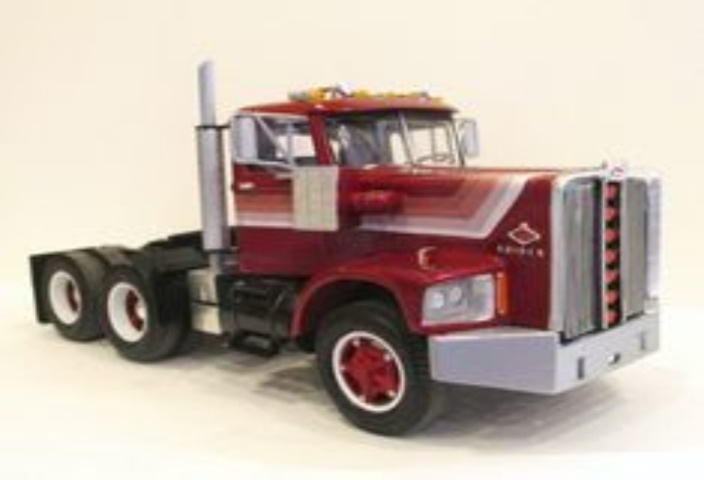industrial: (10, 34, 691, 446)
